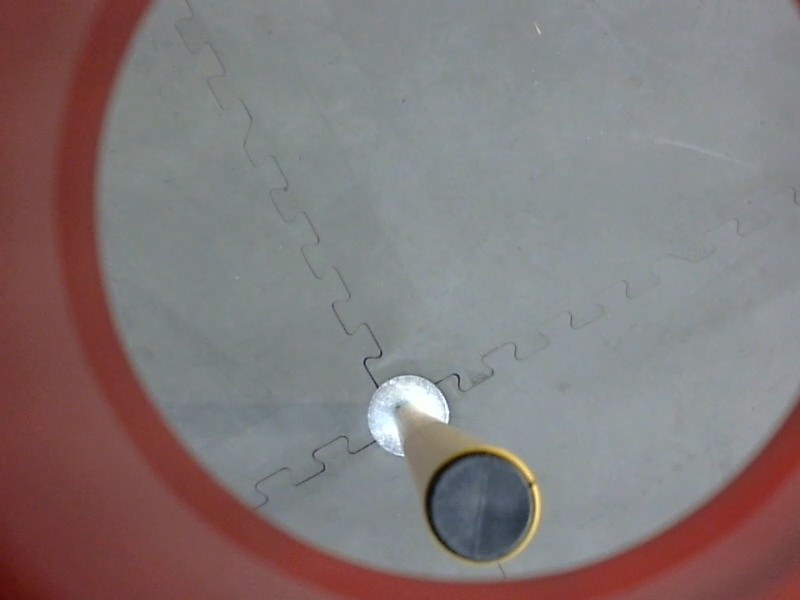tip: (418, 441, 546, 570)
